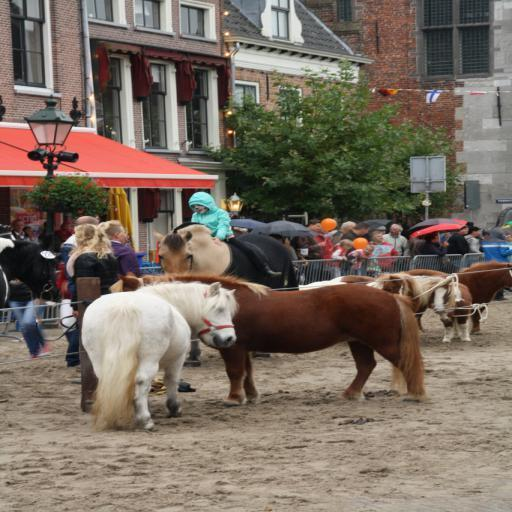horse: (78, 225, 512, 430), (0, 230, 59, 304)
